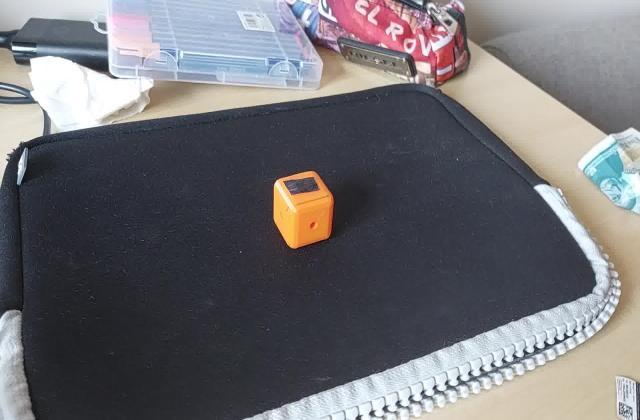black: (280, 176, 320, 198)
cube: (270, 170, 334, 250)
